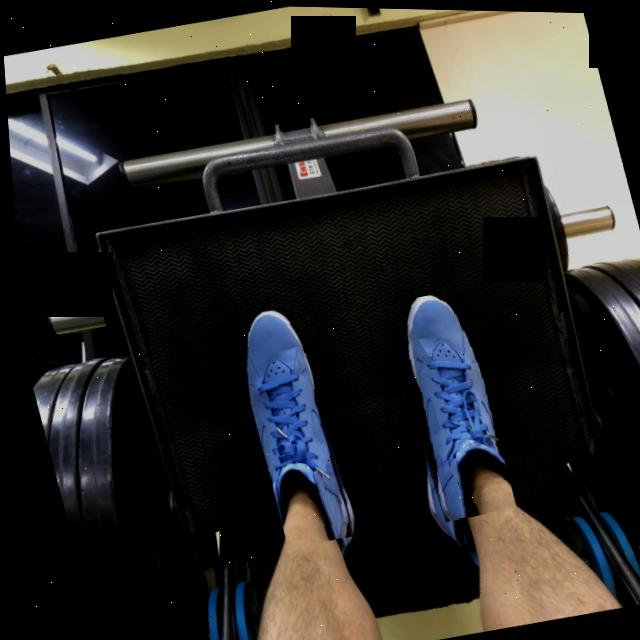shoe: (371, 287, 511, 524), (224, 303, 354, 549)
